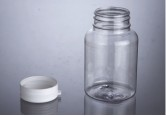medicinejar: (14, 7, 140, 105)
